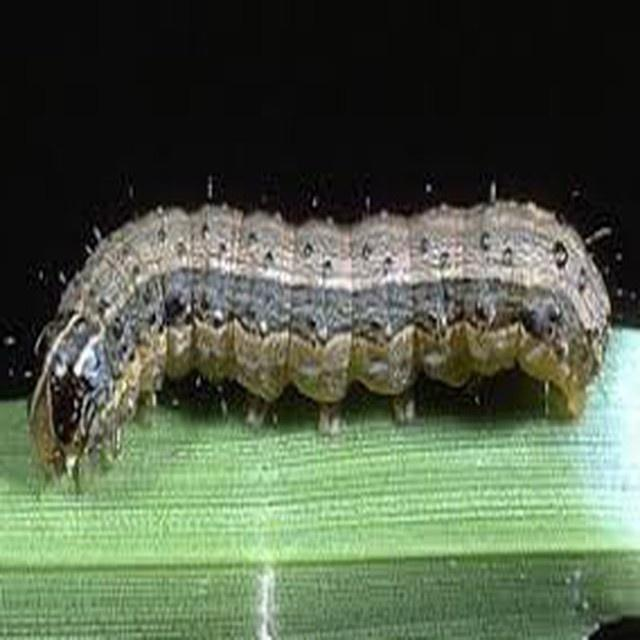gusano_cogollero: (34, 195, 608, 482)
